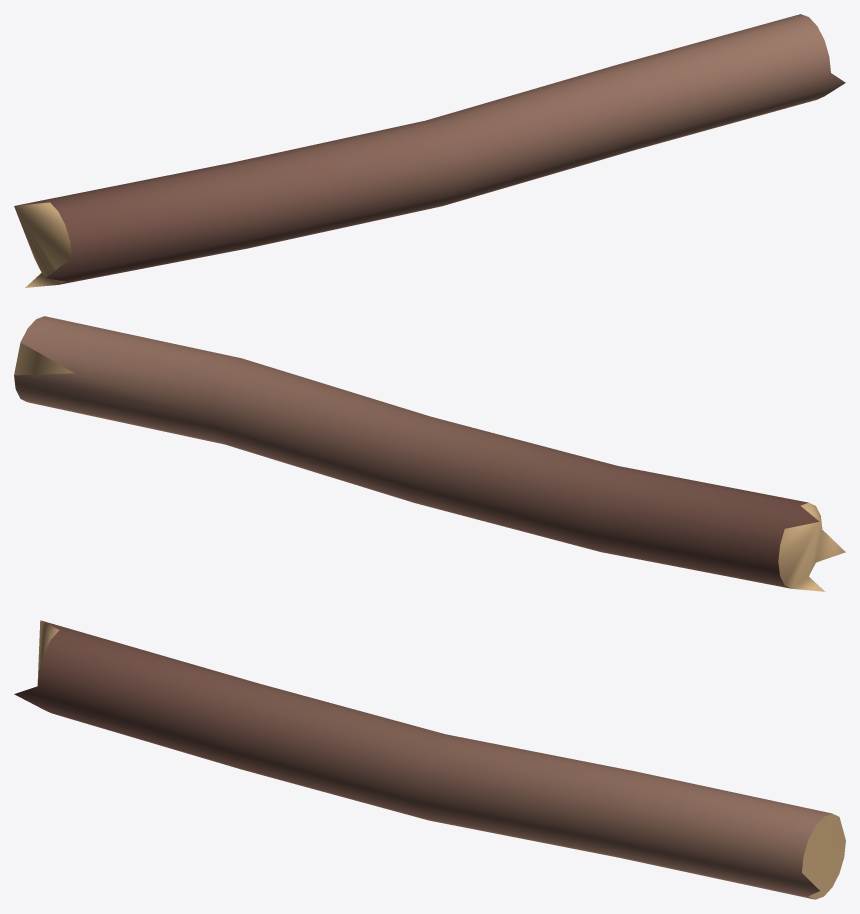
The model's file is Log_2.fbx.
3 renders of one model, top to bottom at view 1: azimuth 30°, elevation 25°; view 2: azimuth 150°, elevation 25°; view 3: azimuth 330°, elevation 25°, orthographic.
Visible parts, largest first — view 1: Log_2; view 2: Log_2; view 3: Log_2.
Part boxes in pixels (x1,y1,x2,y2): Log_2: (14, 14, 845, 287); Log_2: (14, 316, 845, 591); Log_2: (14, 620, 845, 899).
Size of the model in its own units: 4.23 by 0.4534 by 0.4553.
